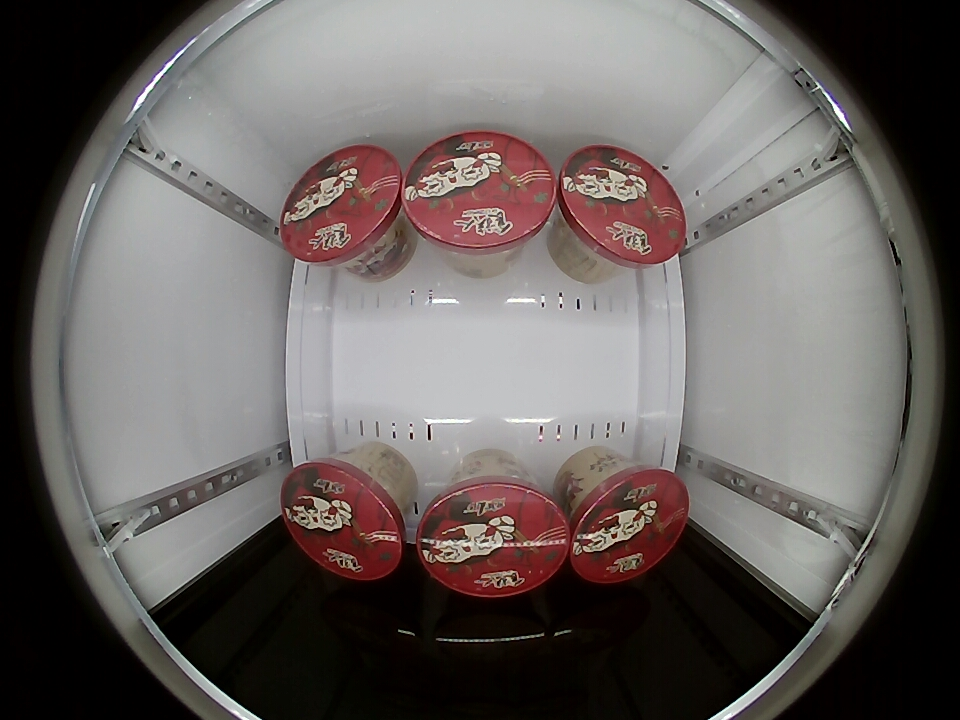suanlafen: (401, 130, 558, 259), (415, 473, 571, 597), (555, 144, 687, 273), (280, 456, 409, 581), (280, 144, 405, 270), (567, 464, 691, 584)
